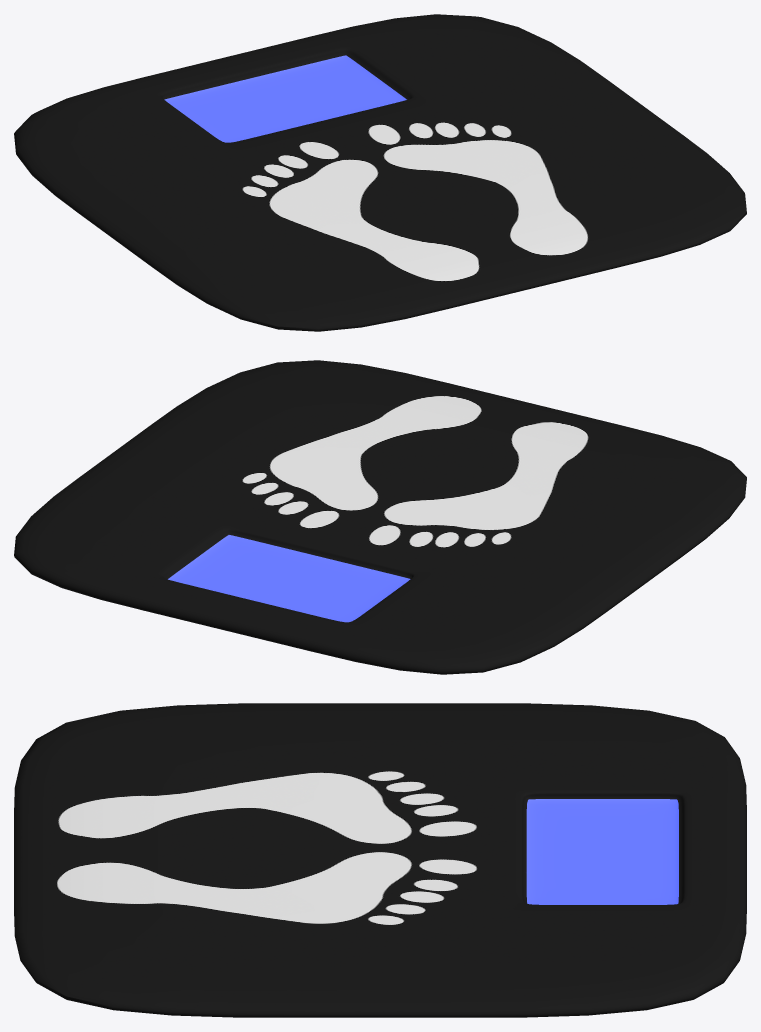
Rendered from scale.glb.
3 renders of one model, top to bottom at view 1: azimuth 30°, elevation 25°; view 2: azimuth 150°, elevation 25°; view 3: azimuth 270°, elevation 25°, orthographic. The views are drawn at different scales.
Parts seen in each view (by area): view 1: Weighing_Scale; view 2: Weighing_Scale; view 3: Weighing_Scale.
Boxes of the visible parts, x1,y1,x2,y2 form: Weighing_Scale: [14, 14, 746, 331]; Weighing_Scale: [14, 360, 746, 674]; Weighing_Scale: [14, 703, 746, 1017].
Size of the model in its own units: 0.299 by 0.00752 by 0.2991.
1 material, 1 textured.
